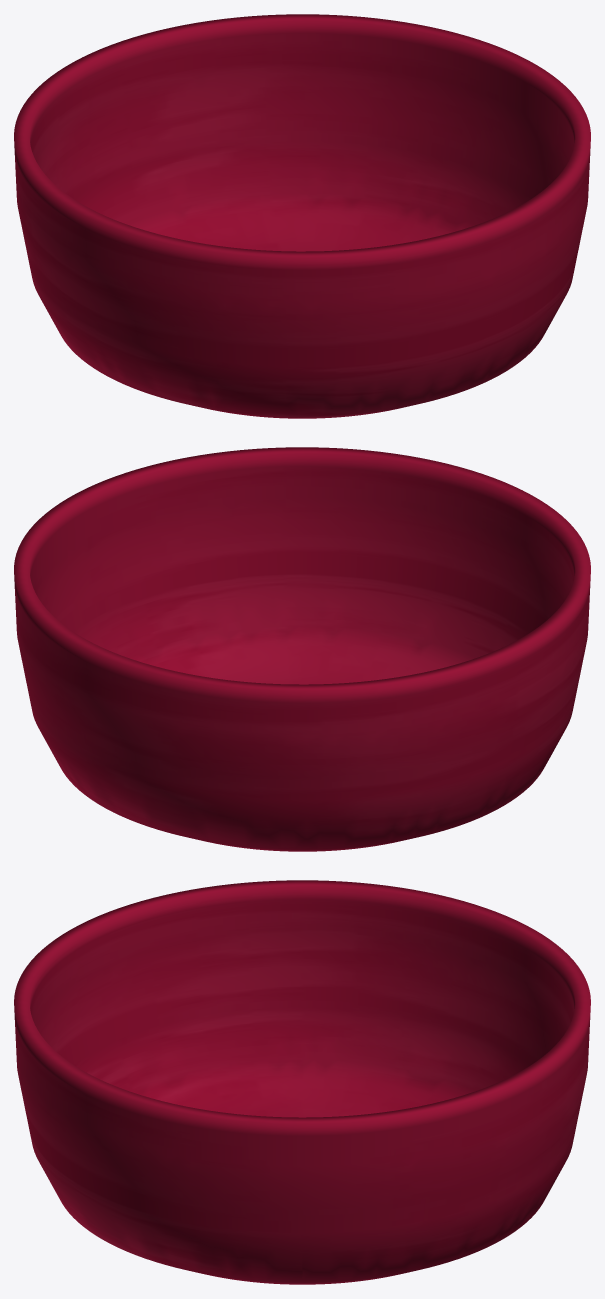
3 views of the same model, one above another, from view 1: azimuth 30°, elevation 25°; view 2: azimuth 150°, elevation 25°; view 3: azimuth 270°, elevation 25° (orthographic).
Visible parts, largest first — view 1: body; view 2: body; view 3: body.
Boxes of the visible parts, x1,y1,x2,y2 form: body: [14, 14, 590, 418]; body: [14, 447, 590, 851]; body: [14, 880, 590, 1284].
Size of the model in its own units: 0.1112 by 0.0434 by 0.1112.
Materials: 1 (1 with a texture image).
